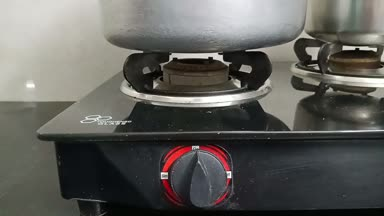noflame_gason: (131, 51, 263, 210)
